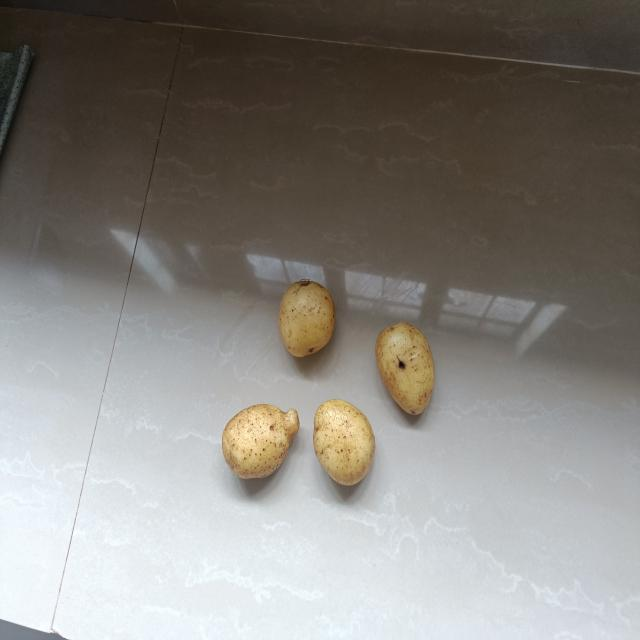potato: (218, 402, 303, 485), (375, 317, 436, 422), (312, 398, 379, 487), (276, 273, 339, 362)
